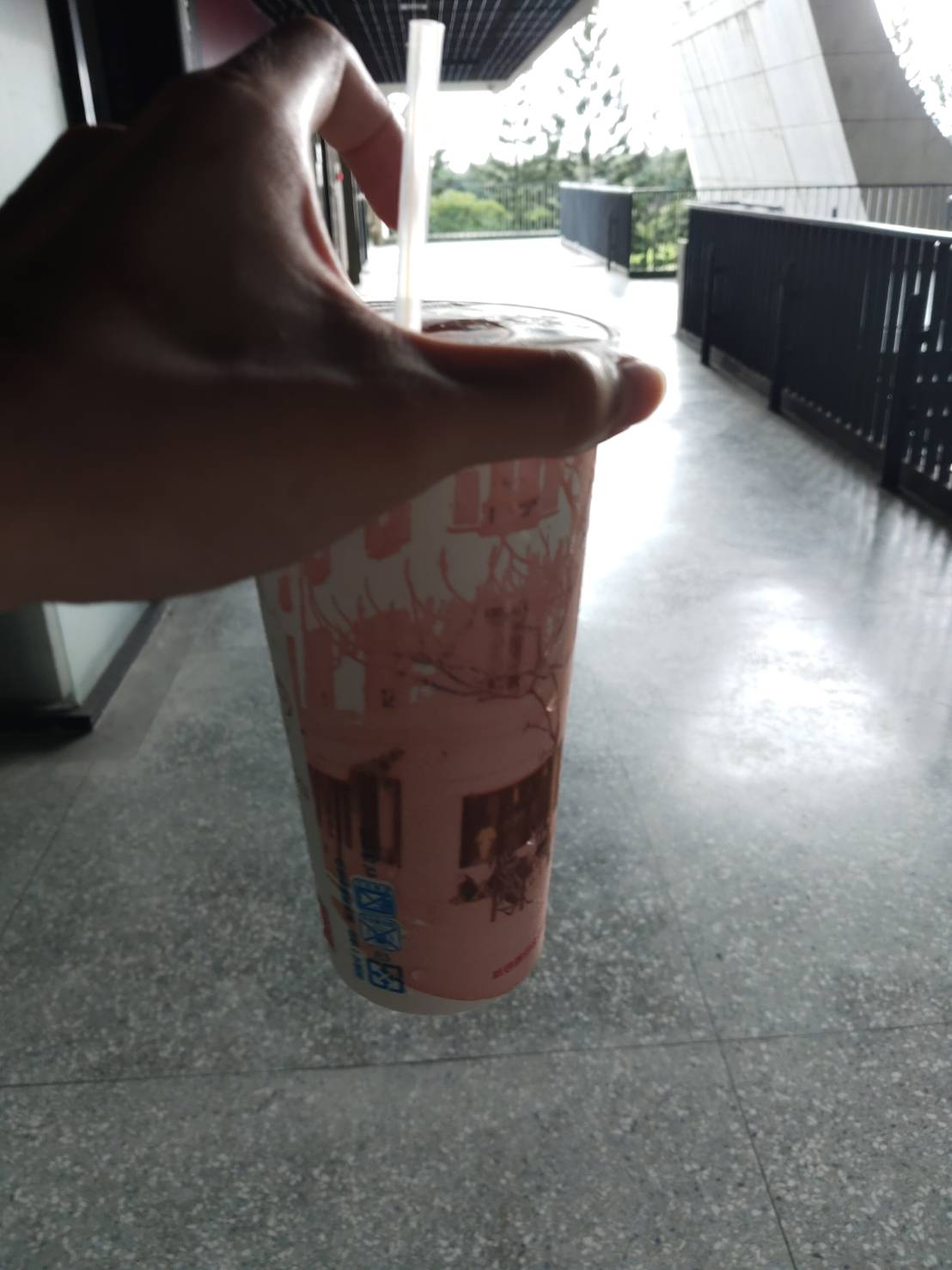paper: (234, 276, 699, 1048)
plastic: (349, 0, 487, 339)
